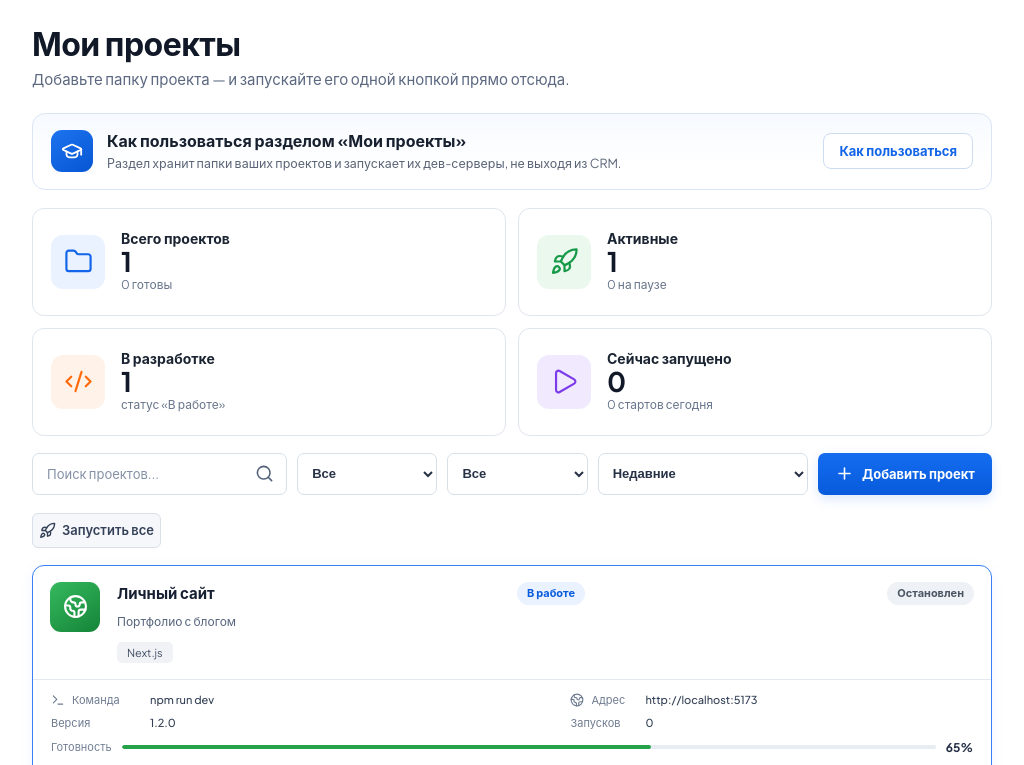
страница «Мои проекты» › запускает все проекты одной кнопкой и показывает итог
Click the button "Запустить все": {"x": 96, "y": 530} [32,513,161,548]
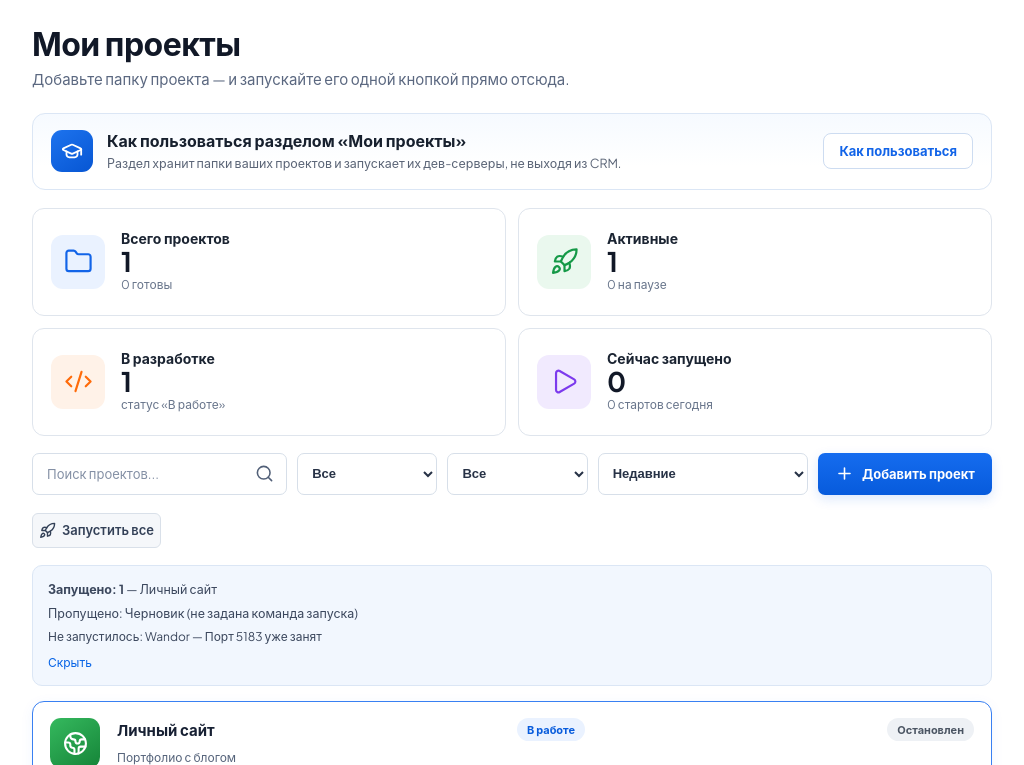
Check: the text "Запущено: 1" is shown, box [48,581,124,597]
Check: the text "Пропущено: Черновик (не задана команда запуска)" is shown, box [48,605,358,621]
Check: the text "Не запустилось: Wandor — Порт 5183 уже занят" is shown, box [48,629,322,644]
